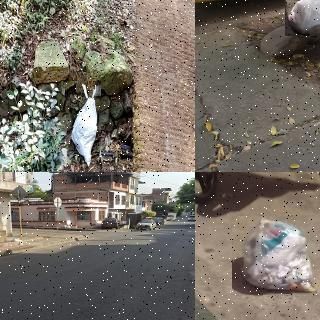Garbage: (231, 215, 320, 295), (66, 80, 101, 172), (285, 0, 320, 36), (10, 238, 20, 242), (18, 240, 24, 246), (67, 225, 71, 229), (63, 225, 68, 228)
